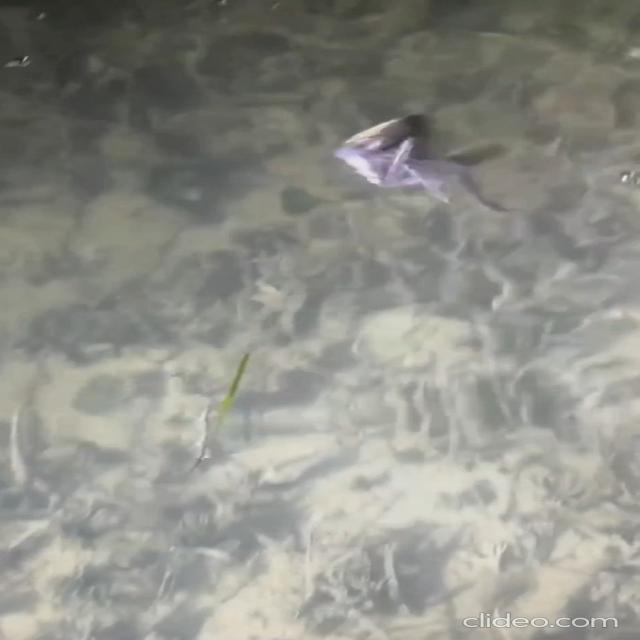fish: (298, 80, 522, 234)
